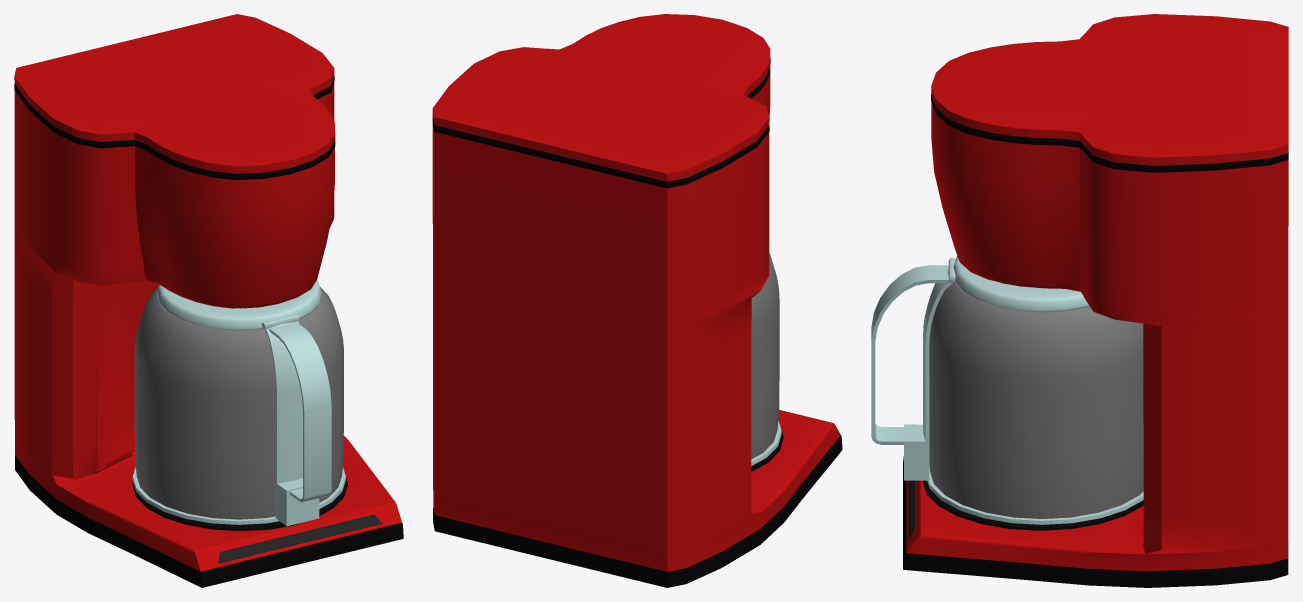
Rendered from CoffeeMachine2.fbx.
The picture shows the model from 3 angles, left to right: view 1: azimuth 30°, elevation 25°; view 2: azimuth 150°, elevation 25°; view 3: azimuth 270°, elevation 25°; orthographic projection. The views are drawn at different scales.
Parts seen in each view (by area): view 1: CoffeeMachine2, CoffeePot2Glass, CoffeePot2, Burner2; view 2: CoffeeMachine2, CoffeePot2Glass; view 3: CoffeeMachine2, CoffeePot2Glass, CoffeePot2, Burner2.
Part boxes in pixels (x1,y1,x2,y2): CoffeeMachine2: (14, 14, 403, 587); CoffeePot2Glass: (134, 286, 343, 519); CoffeePot2: (132, 279, 345, 526); Burner2: (132, 478, 347, 530); CoffeeMachine2: (432, 14, 842, 587); CoffeePot2Glass: (751, 253, 779, 459); CoffeeMachine2: (903, 14, 1288, 587); CoffeePot2Glass: (929, 282, 1143, 518); CoffeePot2: (871, 256, 1143, 524); Burner2: (923, 480, 1143, 530).
Size of the model in its own units: 115 by 160 by 141.
